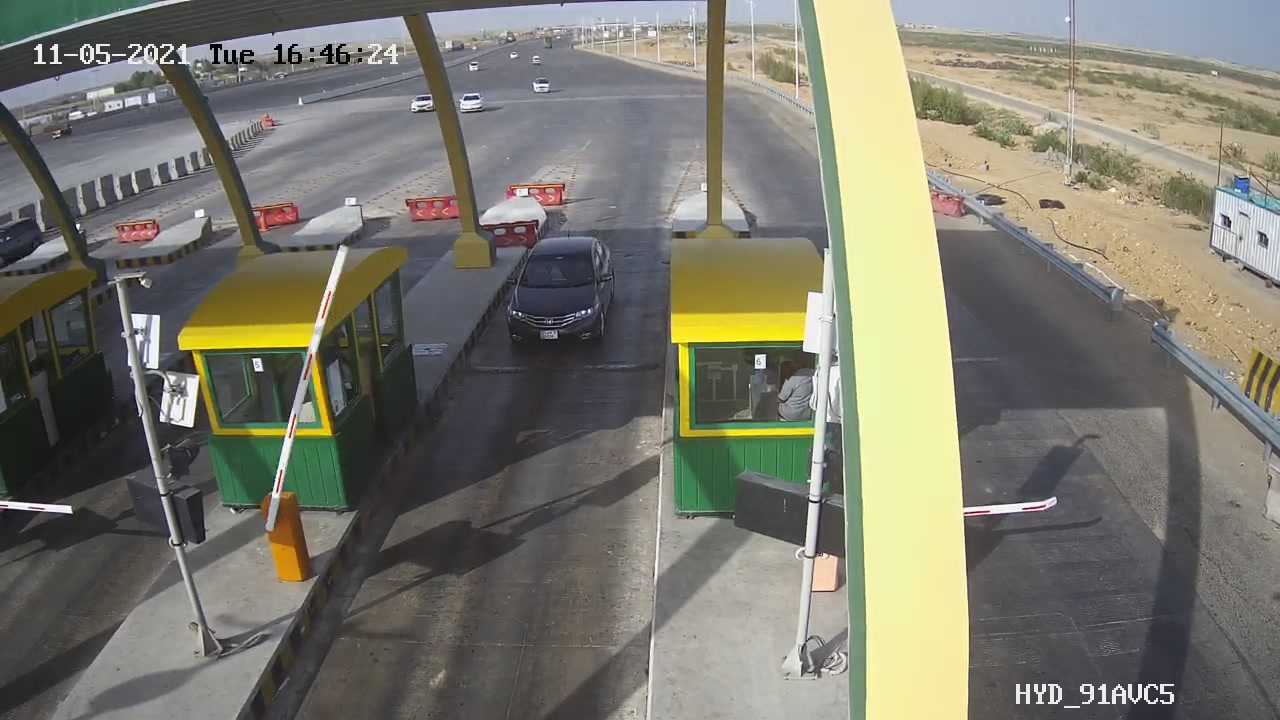F1: (483, 220, 636, 364)
